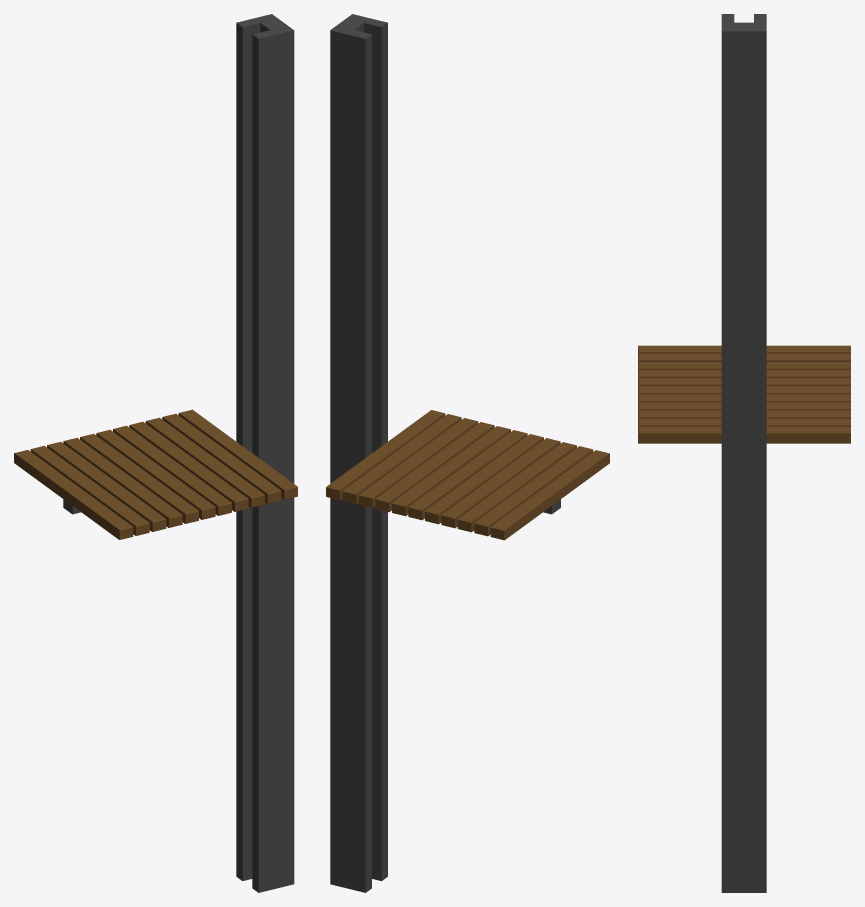
Rendered from Elevator3.fbx.
3 renders of one model, left to right at view 1: azimuth 30°, elevation 25°; view 2: azimuth 150°, elevation 25°; view 3: azimuth 270°, elevation 25°, orthographic.
Visible parts, largest first — view 1: Elevator_Beam, Elevator_Plate2; view 2: Elevator_Beam, Elevator_Plate2; view 3: Elevator_Beam, Elevator_Plate2.
Part boxes in pixels (box(x1,y1,x2,y2)): Elevator_Beam: box(236, 14, 294, 892); Elevator_Plate2: box(14, 409, 297, 539); Elevator_Beam: box(330, 14, 387, 892); Elevator_Plate2: box(326, 410, 609, 540); Elevator_Beam: box(721, 14, 766, 892); Elevator_Plate2: box(638, 345, 850, 443).
Bounding box in the file's own units: 236 × 893 × 200.
